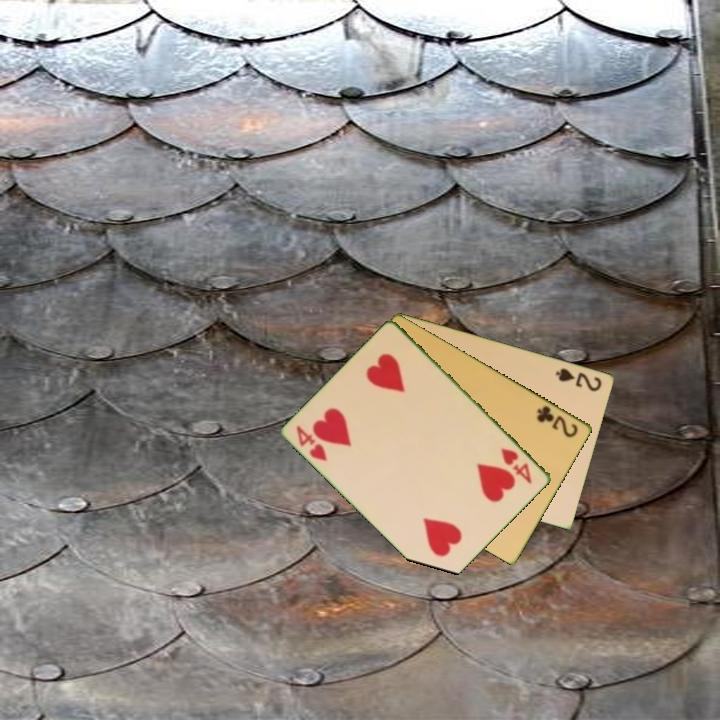2c: (533, 402, 581, 440)
2s: (552, 364, 605, 394)
4h: (293, 422, 331, 464), (498, 444, 535, 487)
